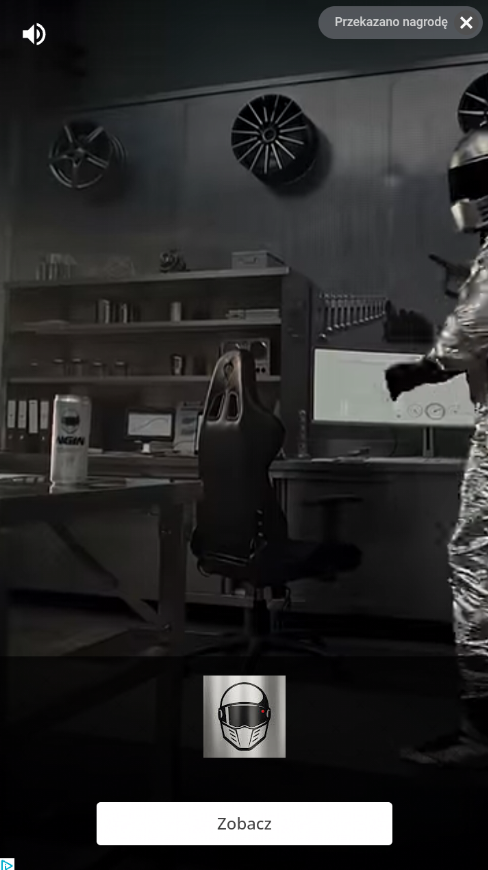close_button: (455, 14, 476, 29)
